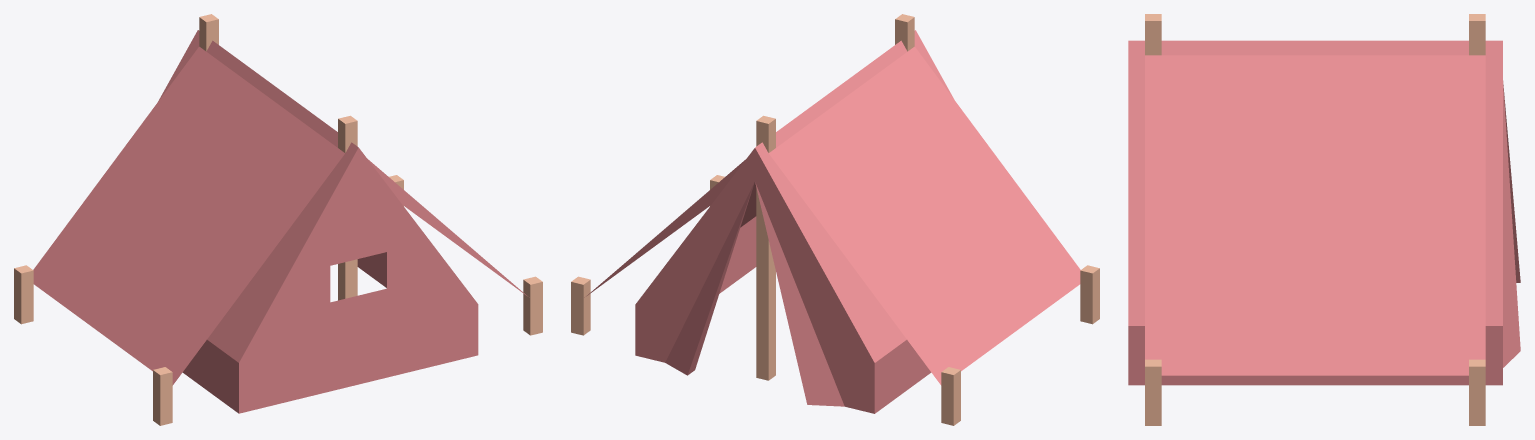
File: tent_detailedOpen.glb
3 renders of one model, left to right at view 1: azimuth 30°, elevation 25°; view 2: azimuth 150°, elevation 25°; view 3: azimuth 270°, elevation 25°, orthographic. The views are drawn at different scales.
Parts seen in each view (by area): view 1: tent_detailedOpen; view 2: tent_detailedOpen; view 3: tent_detailedOpen.
Boxes of the visible parts, x1,y1,x2,y2 form: tent_detailedOpen: [14, 14, 542, 425]; tent_detailedOpen: [571, 14, 1099, 425]; tent_detailedOpen: [1128, 14, 1520, 425].
Size of the model in its own units: 0.8749 by 0.5611 by 0.6664.
